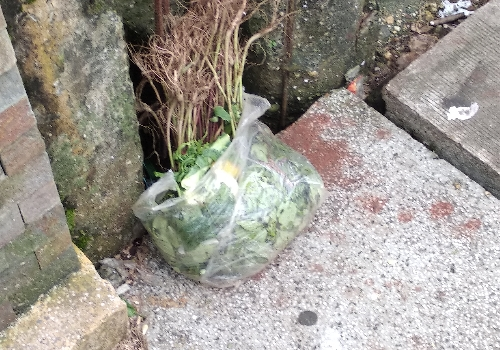trash: (123, 76, 316, 290)
